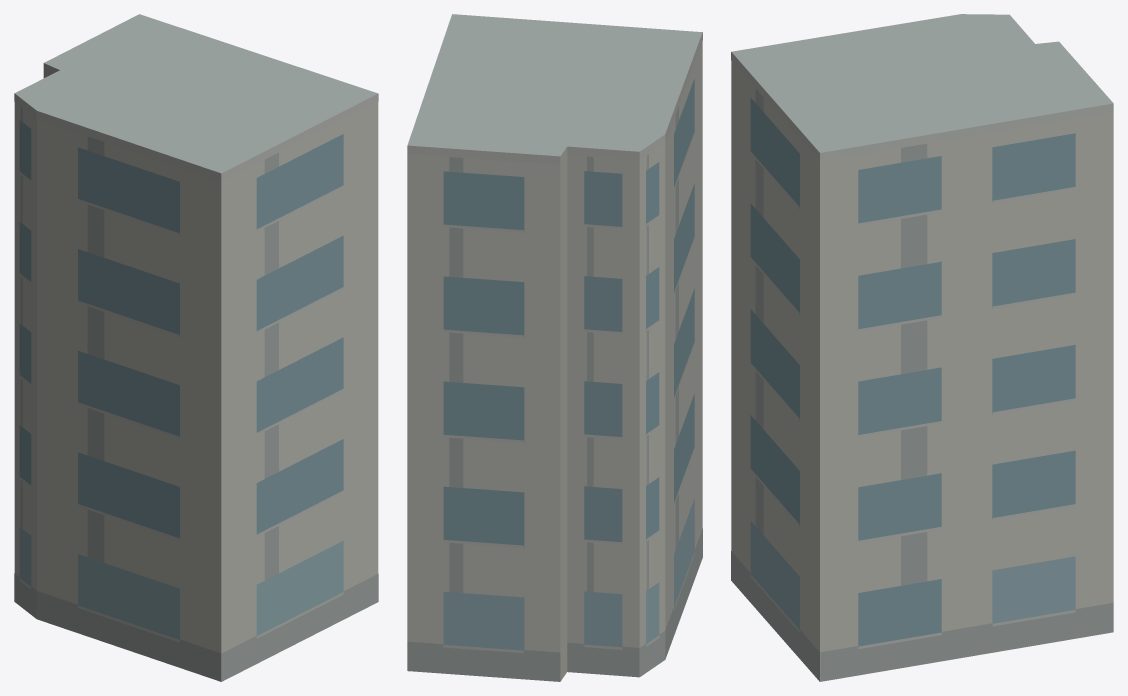
File: residential-a0571bd0-974f-4bbe-b1a7-7d73f6576805.glb
3 renders of one model, left to right at view 1: azimuth 30°, elevation 25°; view 2: azimuth 150°, elevation 25°; view 3: azimuth 270°, elevation 25°, orthographic. The views are drawn at different scales.
Visible parts, largest first — view 1: residential-a0571bd0-974f-4bbe-b1a7-7d73f6576805.tmp; view 2: residential-a0571bd0-974f-4bbe-b1a7-7d73f6576805.tmp; view 3: residential-a0571bd0-974f-4bbe-b1a7-7d73f6576805.tmp.
Boxes of the visible parts, x1=… form: residential-a0571bd0-974f-4bbe-b1a7-7d73f6576805.tmp: x1=14, y1=14, x2=378, y2=681; residential-a0571bd0-974f-4bbe-b1a7-7d73f6576805.tmp: x1=407, y1=14, x2=702, y2=681; residential-a0571bd0-974f-4bbe-b1a7-7d73f6576805.tmp: x1=731, y1=14, x2=1113, y2=681.
Bounding box in the file's own units: 8.46 × 15 × 9.84.
